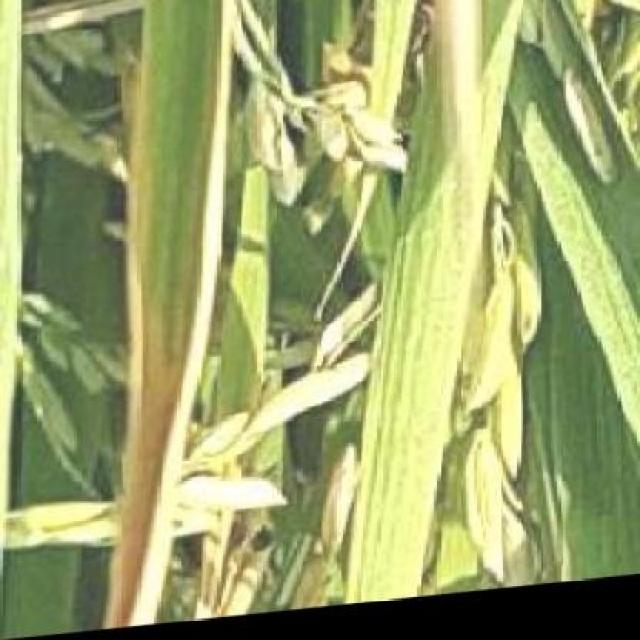Brown_Spot: (77, 31, 246, 634)
